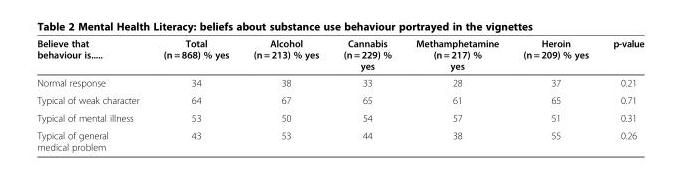table: (36, 37, 643, 152)
table column: (36, 37, 150, 152), (403, 37, 510, 152), (150, 37, 240, 152), (240, 37, 330, 152), (510, 37, 600, 152), (330, 37, 403, 152), (600, 37, 643, 152)
table column header: (36, 37, 643, 74)
table row: (36, 37, 643, 74), (36, 126, 643, 152), (36, 108, 643, 126), (36, 74, 643, 91), (36, 91, 643, 108)
